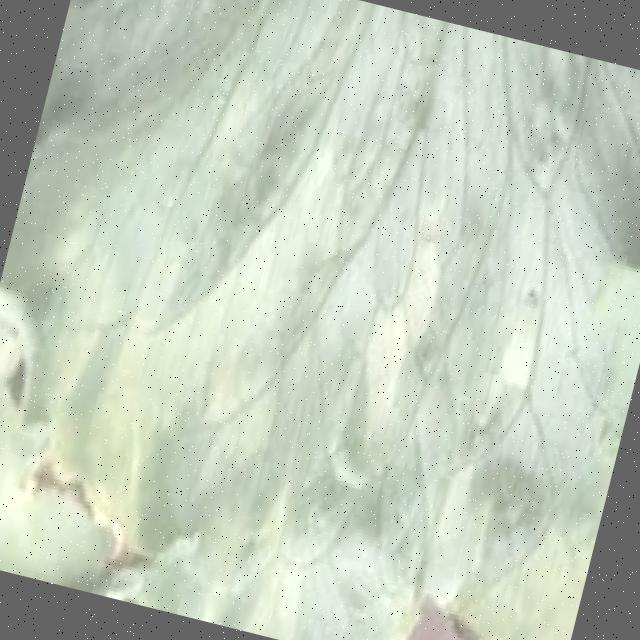Downy_mildew_on_lettuce: (89, 6, 622, 612)
